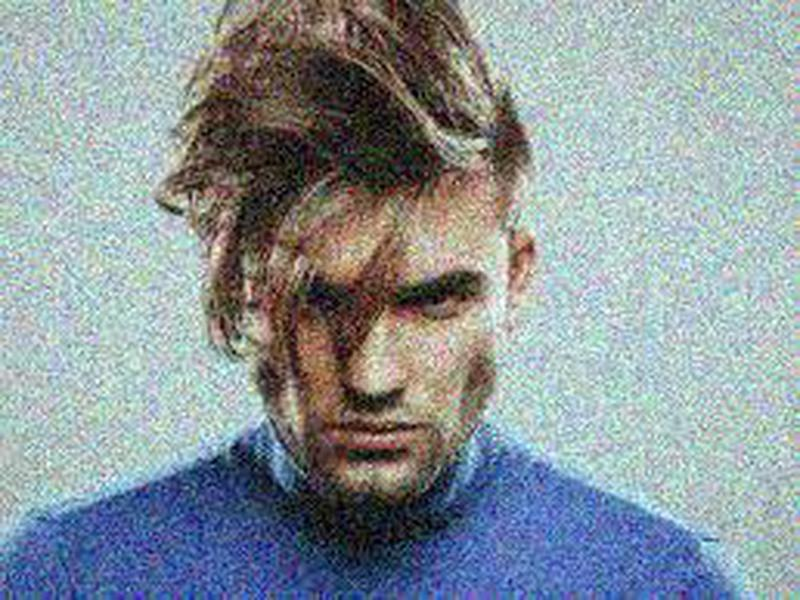without_mask: (266, 216, 501, 506)
